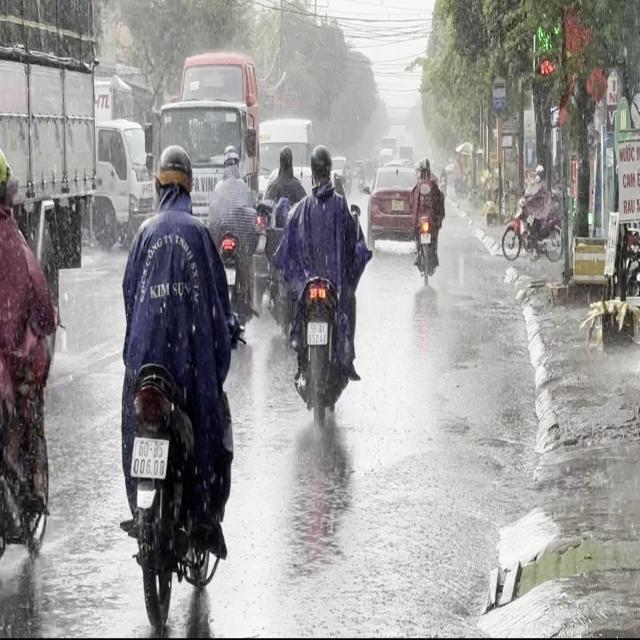helmet: (154, 142, 193, 206), (309, 143, 332, 188), (0, 136, 11, 217), (222, 143, 240, 175)
licenseplate: (110, 138, 242, 632), (0, 132, 61, 560), (283, 140, 365, 430), (208, 142, 257, 353)
nohelmet: (131, 437, 168, 477), (307, 321, 327, 344)
